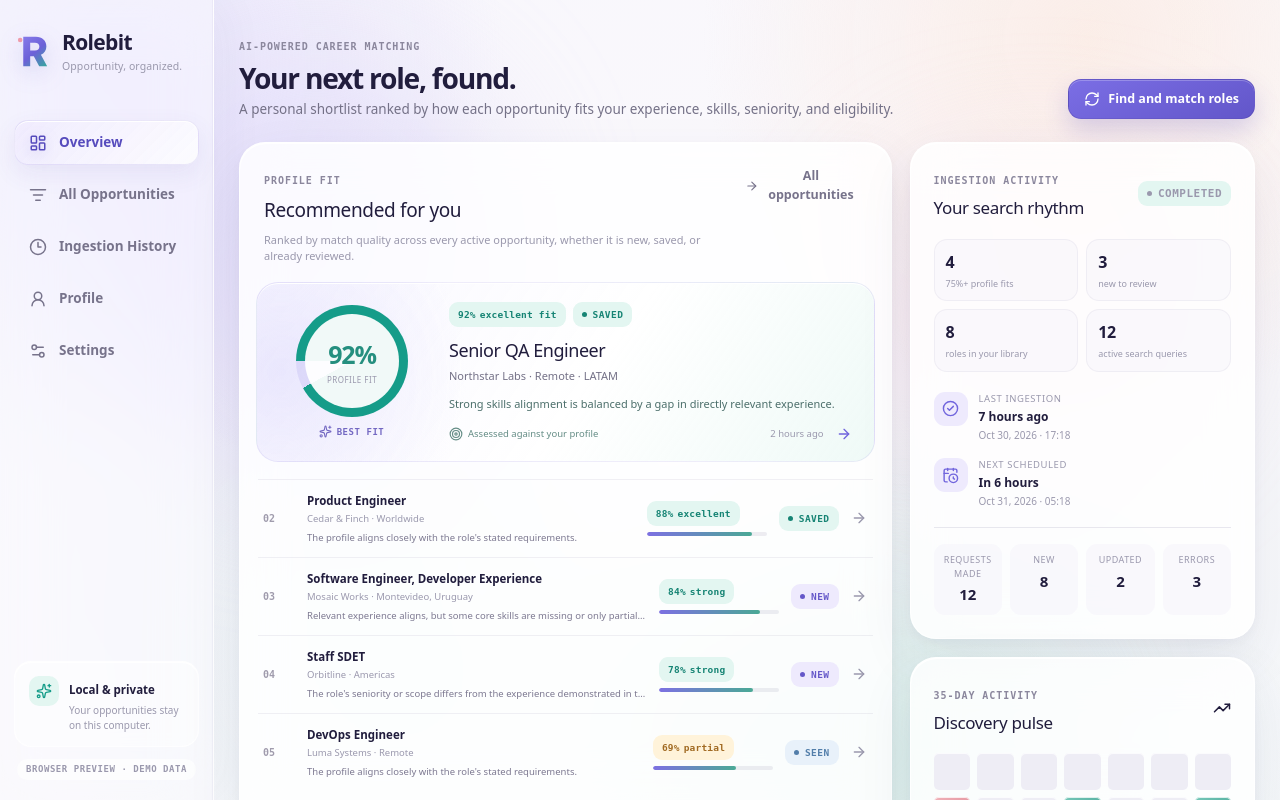
Test: Rolebit application shell › opens the local profile workspace
The width and height of the screenshot is (1280, 800).
Expected: the heading "Your next role, found." is shown, [239,59,516,97]
Click the button "Profile" at (106, 298), box [14,276,199,321]
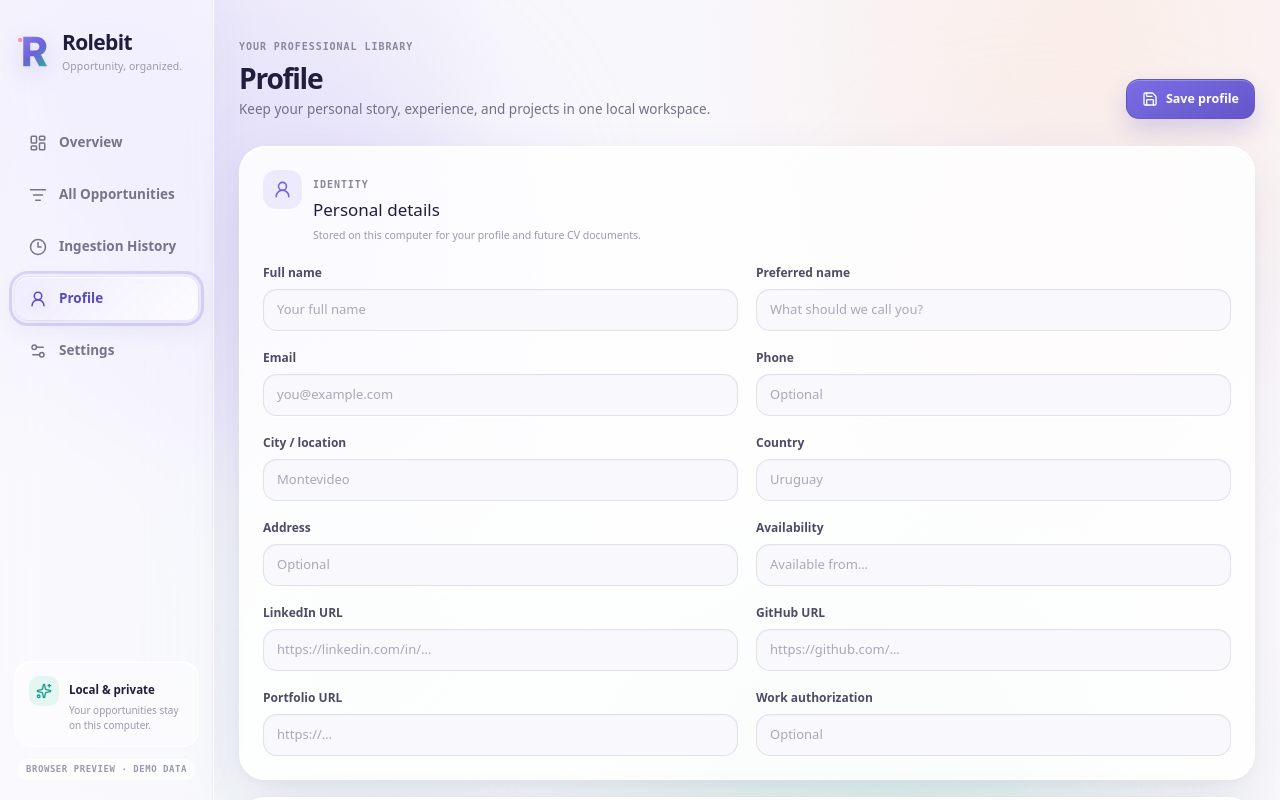
Expected: the text "Local & private" is shown, [69,682,155,697]
Result: the heading "Personal details" is shown at [313,198,440,222]
